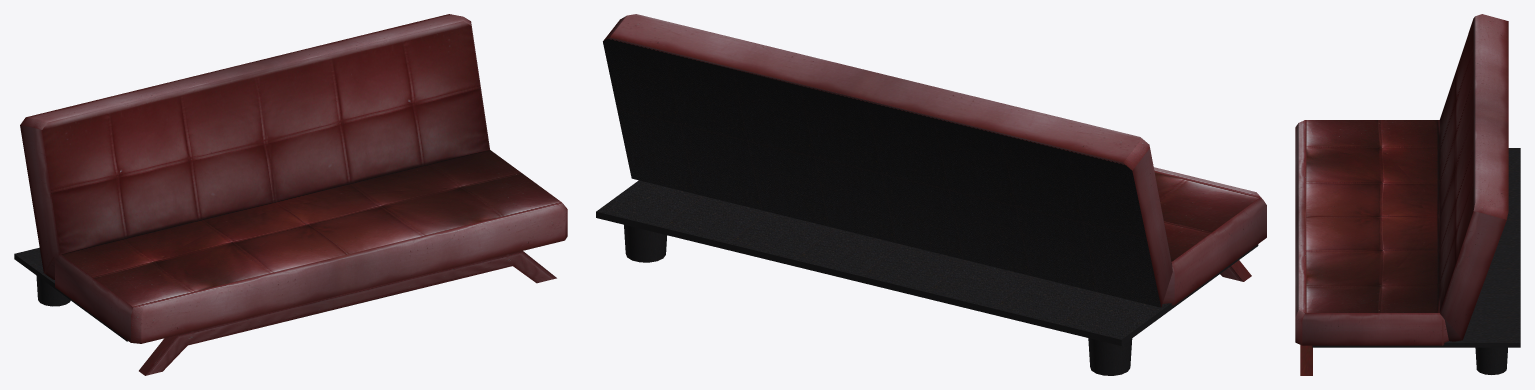
File: bed2 - Copy.FBX
3 renders of one model, left to right at view 1: azimuth 30°, elevation 25°; view 2: azimuth 150°, elevation 25°; view 3: azimuth 270°, elevation 25°, orthographic. The views are drawn at different scales.
Visible parts, largest first — view 1: Cylinder001; view 2: Cylinder001; view 3: Cylinder001.
Part boxes in pixels (x1,y1,x2,y2): Cylinder001: [14, 14, 567, 375]; Cylinder001: [596, 14, 1266, 375]; Cylinder001: [1295, 14, 1520, 375].
Bounding box in the file's own units: 64.14 × 26.42 × 31.03.
